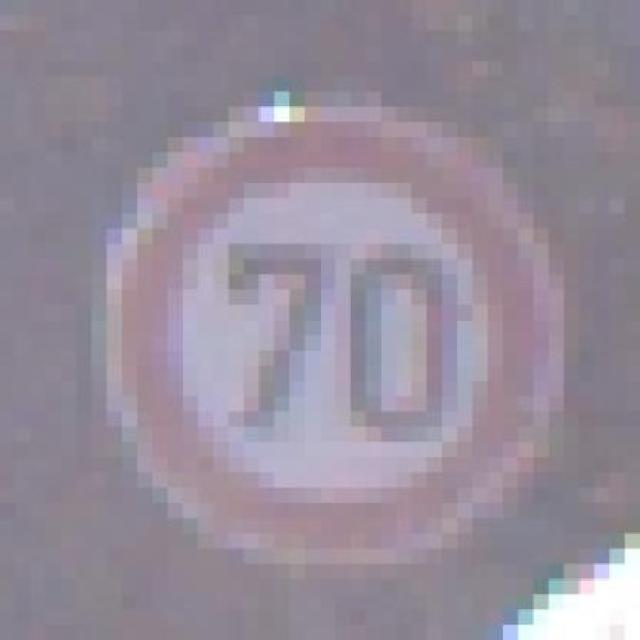forb_speed_over_70: (115, 115, 552, 561)
